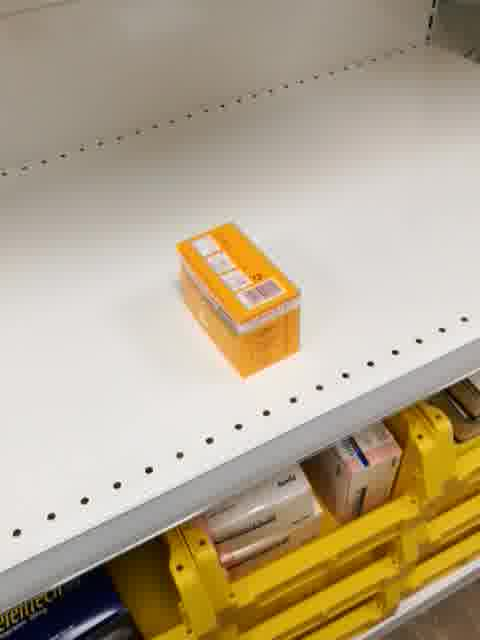jasminetea: (177, 220, 301, 380)
